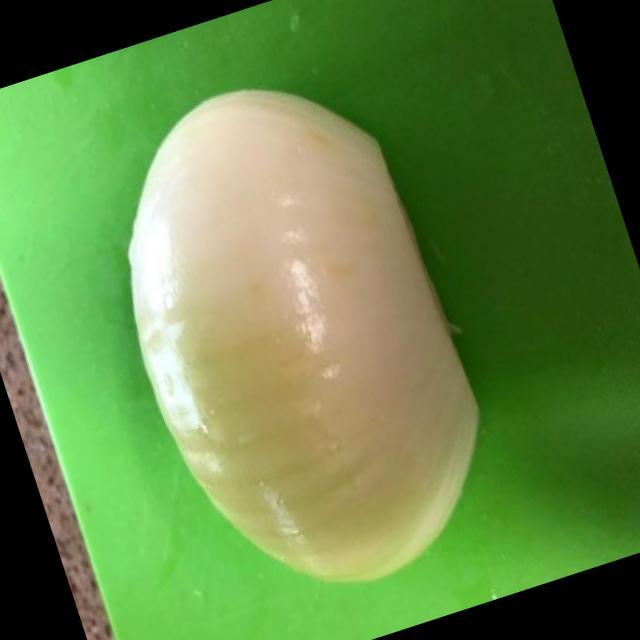Onion: (128, 88, 479, 582)
